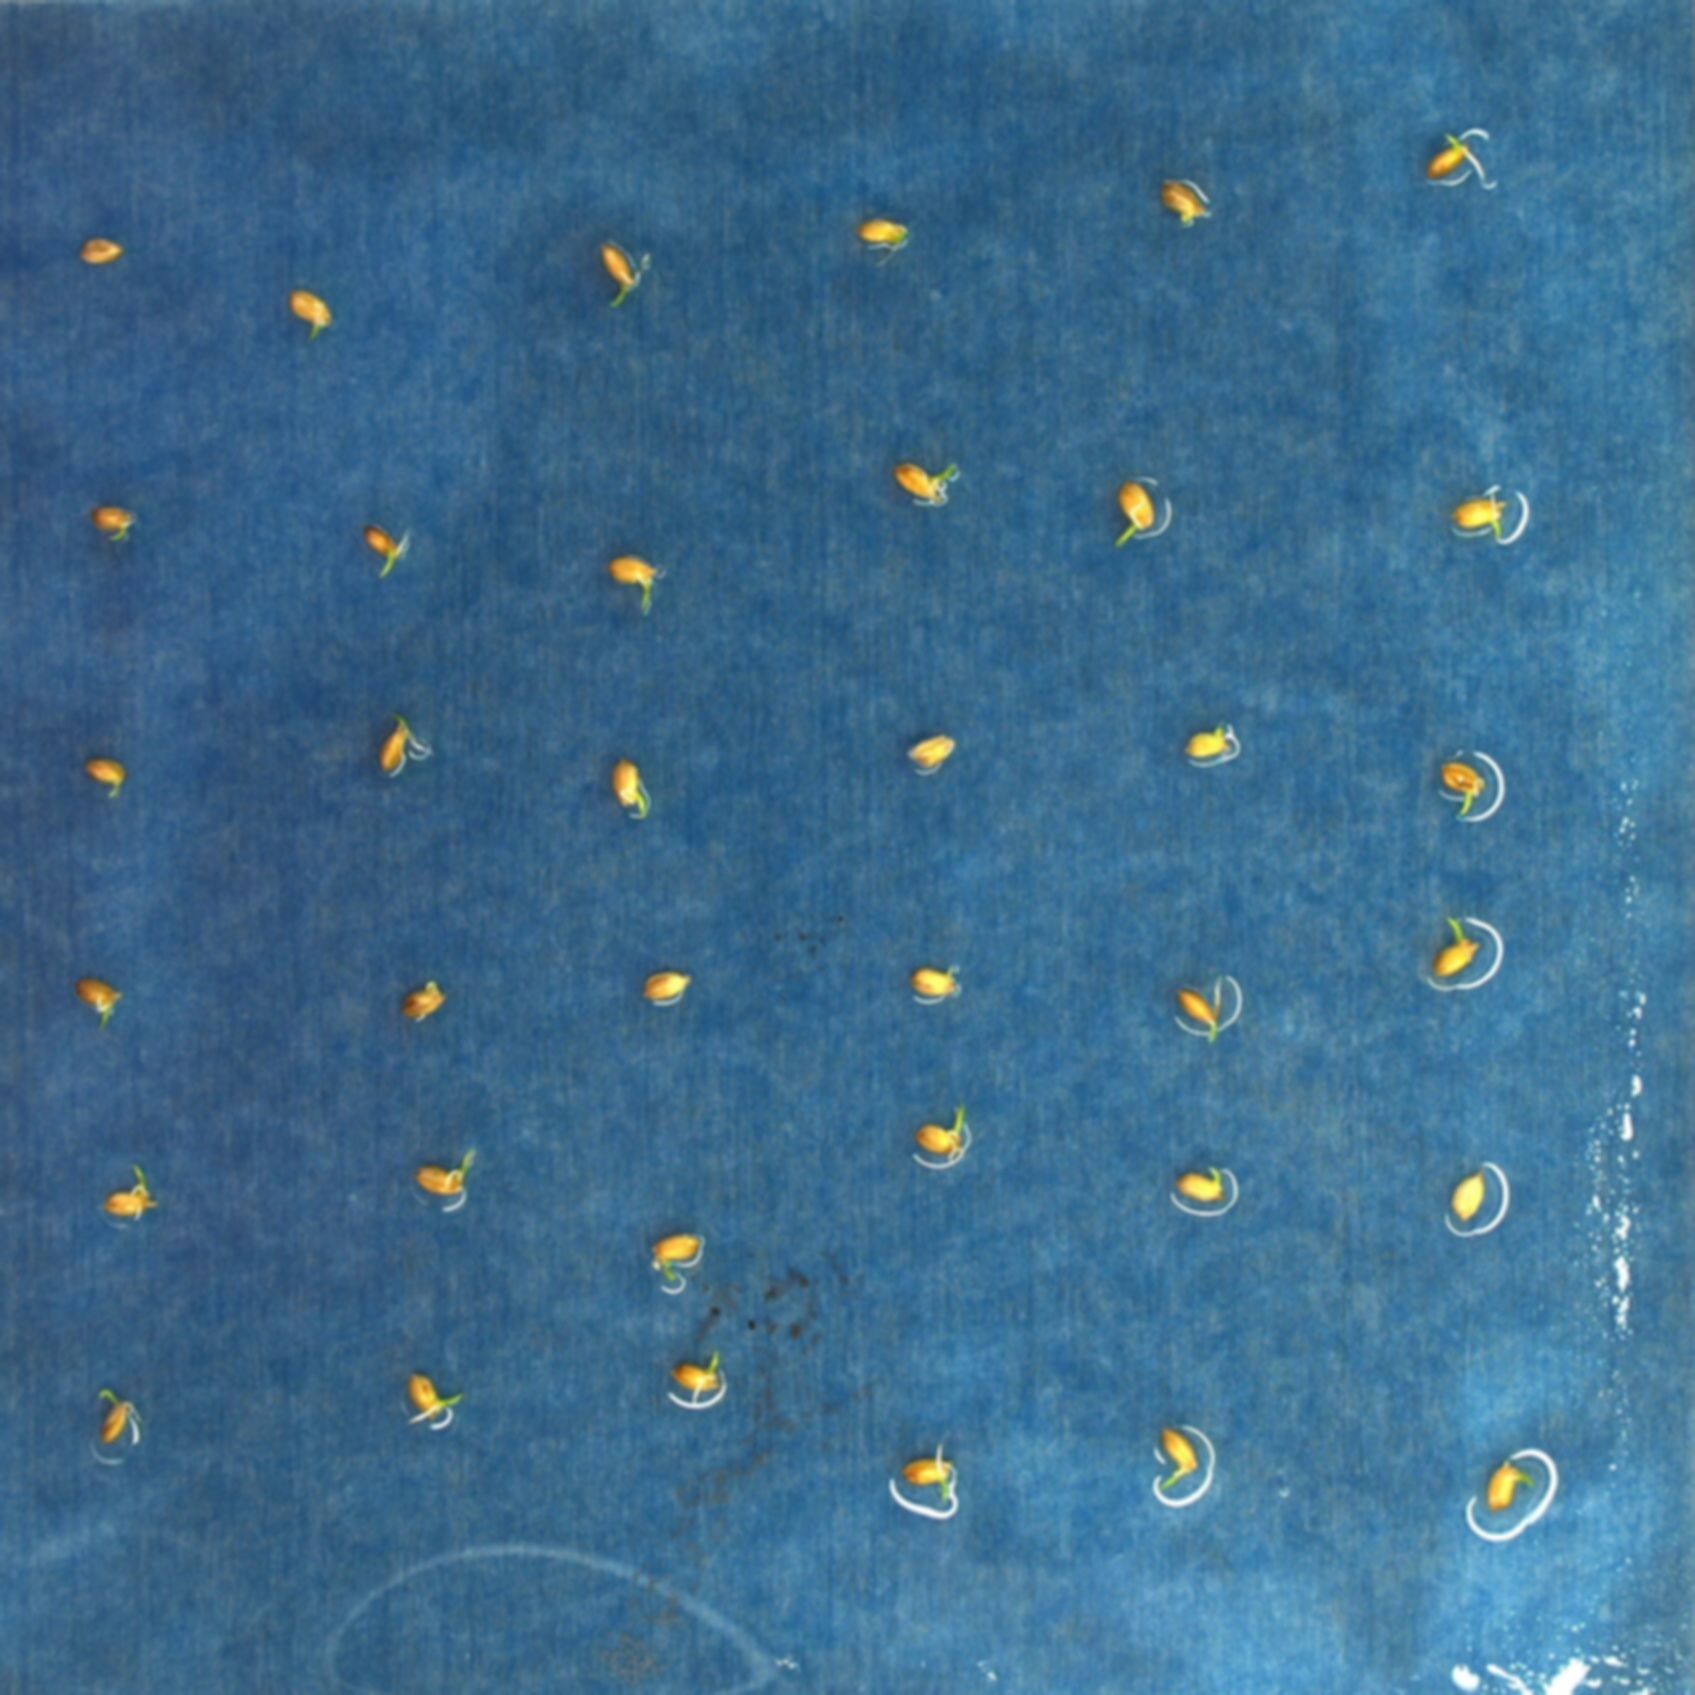not sprout: (1419, 130, 1485, 192), (1173, 973, 1226, 1046), (660, 1347, 726, 1400), (1479, 1461, 1534, 1513), (1167, 1159, 1229, 1205), (1158, 183, 1212, 234), (854, 219, 913, 265), (95, 1385, 140, 1444), (78, 975, 124, 1031), (379, 717, 424, 775), (286, 287, 334, 340), (902, 733, 956, 779), (1180, 720, 1237, 764), (612, 757, 650, 821), (399, 979, 452, 1024), (1447, 1170, 1489, 1225), (910, 967, 967, 1004), (643, 969, 695, 1007), (87, 759, 127, 796), (78, 234, 120, 265)
sprout: (900, 1433, 958, 1509), (910, 1101, 972, 1166), (96, 1163, 158, 1226), (1425, 913, 1481, 983), (400, 1367, 463, 1428), (1444, 494, 1515, 545), (610, 551, 664, 615), (1107, 477, 1153, 549), (643, 1232, 705, 1285), (598, 244, 646, 310), (1439, 757, 1485, 826), (896, 458, 962, 504), (359, 523, 411, 581), (419, 1146, 477, 1198), (1153, 1426, 1198, 1493), (92, 503, 143, 542)
